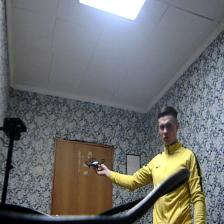drone: (84, 154, 109, 172)
